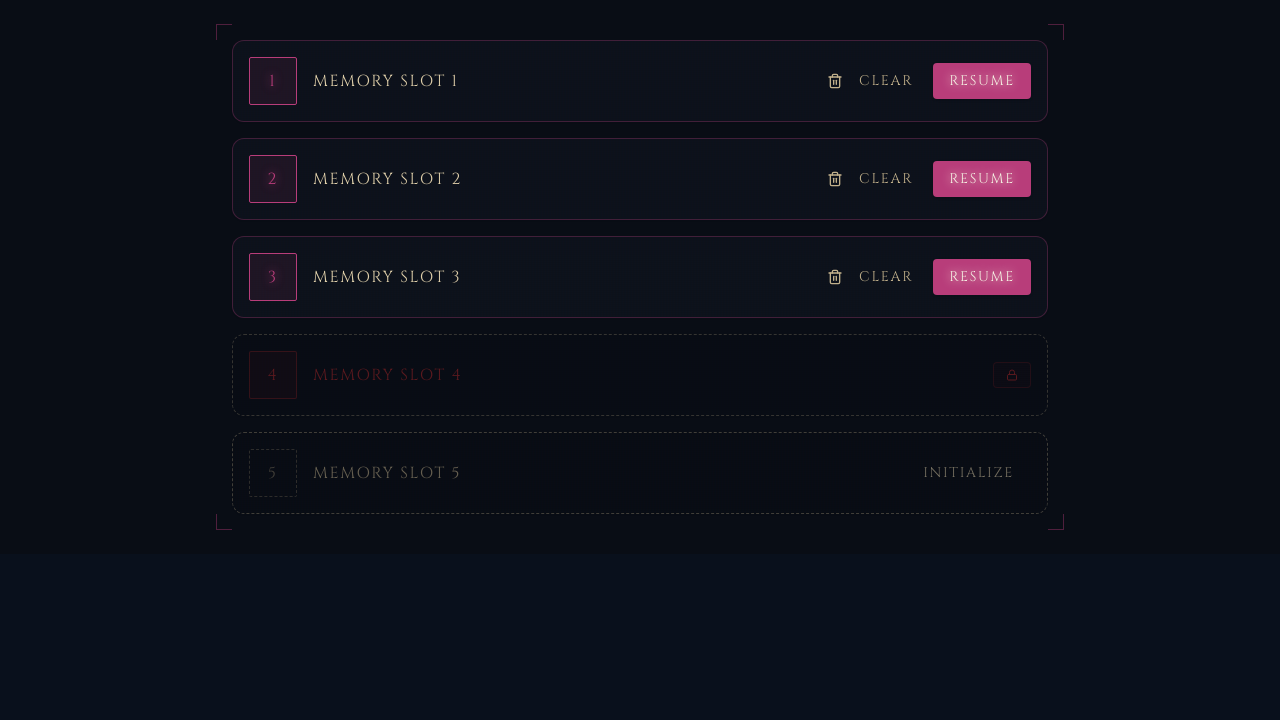
Test: SlotSelector clearing › reports a non-JSON API response visibly
Click the button with aria-label "Clear Memory Slot 2".
click(870, 179)  # box x1=815 y1=163 x2=925 y2=195
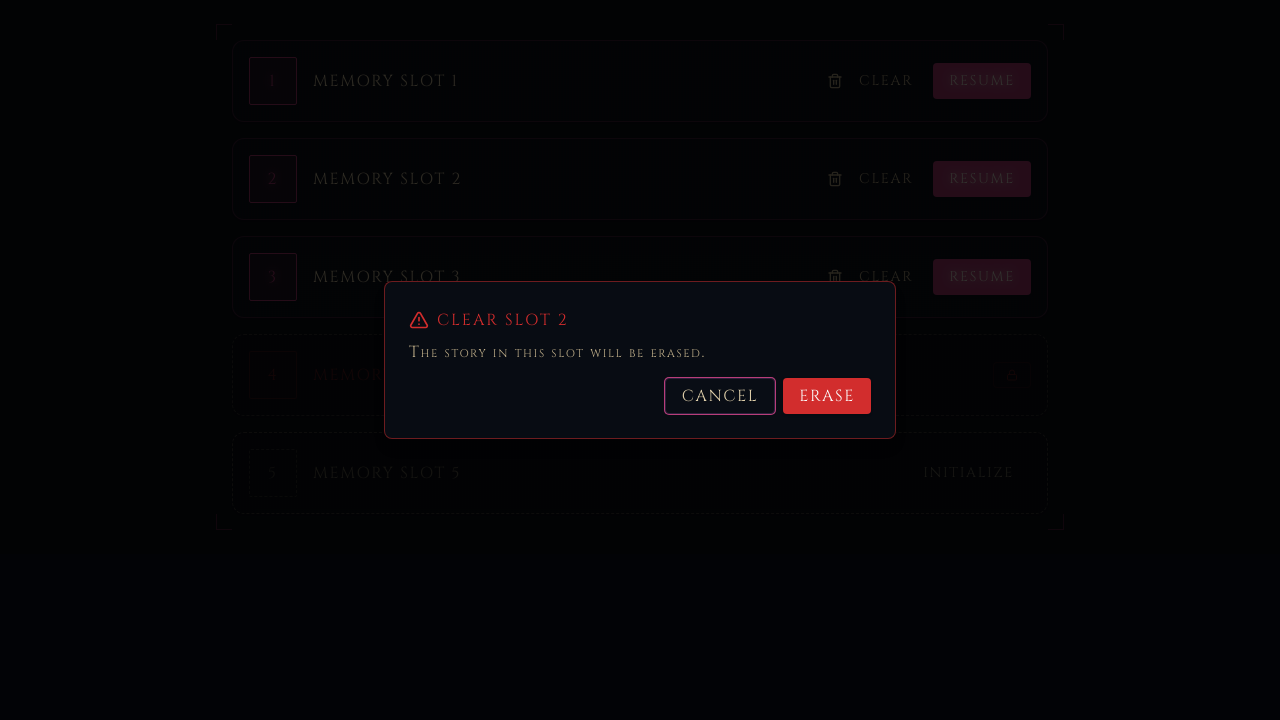
Click the button "ERASE".
click(827, 396)  # box x1=783 y1=378 x2=871 y2=414
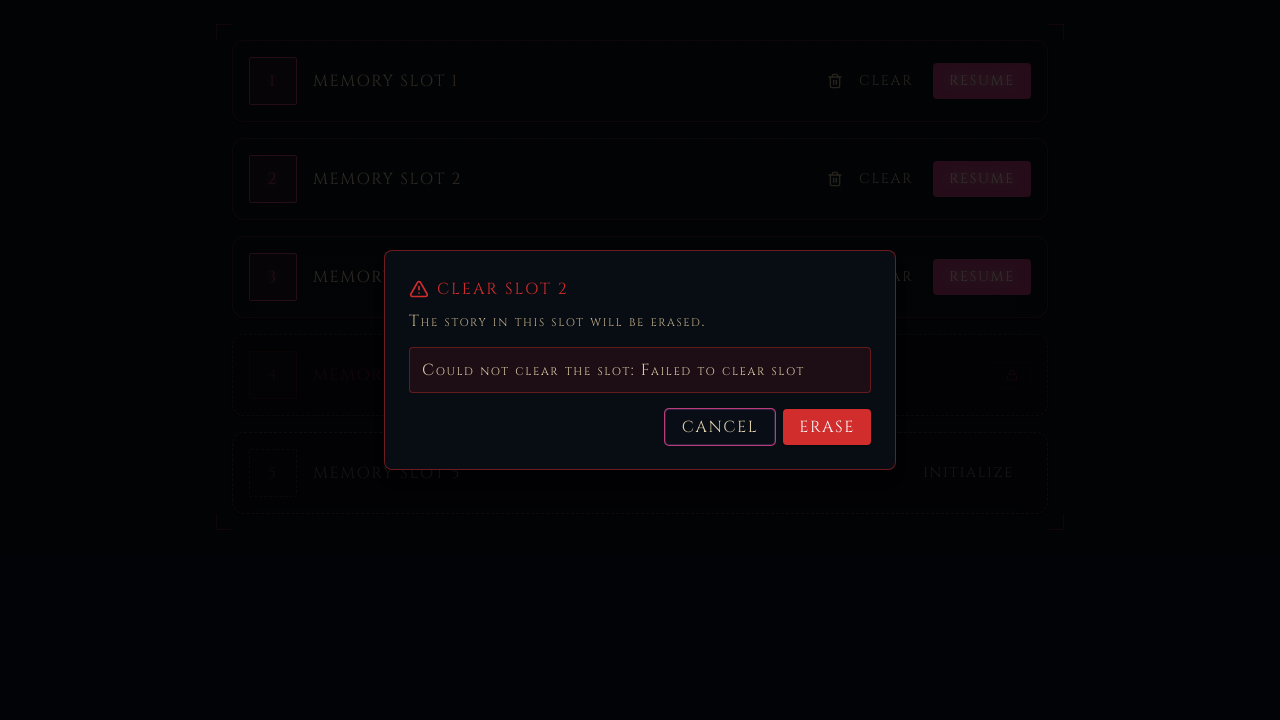
Expected: the message shows "Failed to clear slot", x1=641 y1=359 x2=805 y2=381
